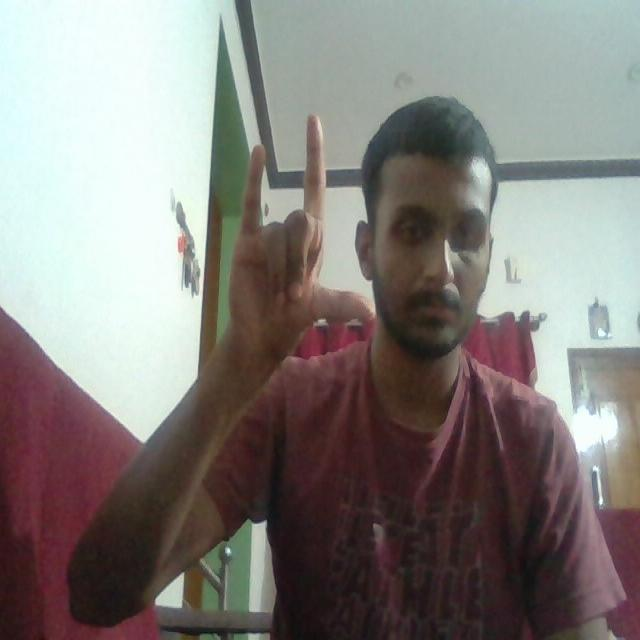iloveyou: (209, 103, 379, 350)
